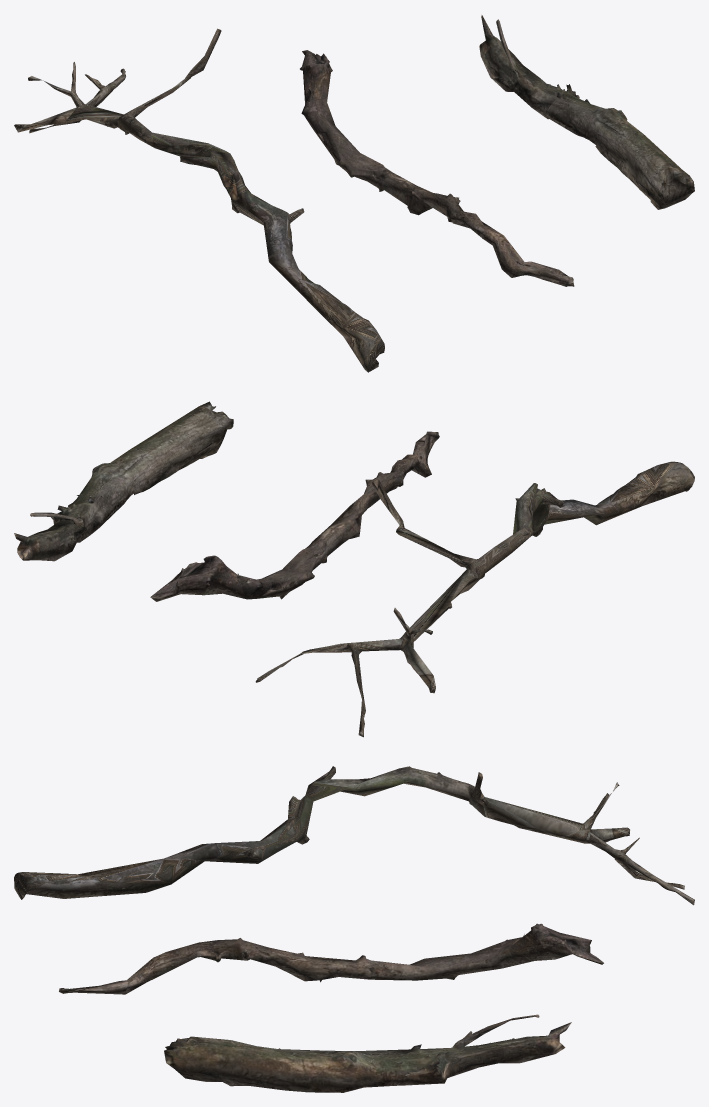
The model's file is dry_branches_medium_01.glb.
The picture shows the model from 3 angles, top to bottom: view 1: azimuth 30°, elevation 25°; view 2: azimuth 150°, elevation 25°; view 3: azimuth 270°, elevation 25°; orthographic projection. The views are drawn at different scales.
Parts seen in each view (by area): view 1: dry_branches_medium_01_a, dry_branches_medium_01_c, dry_branches_medium_01_b; view 2: dry_branches_medium_01_a, dry_branches_medium_01_c, dry_branches_medium_01_b; view 3: dry_branches_medium_01_a, dry_branches_medium_01_c, dry_branches_medium_01_b.
Boxes of the visible parts, box(x1,y1,x2,y2) form: dry_branches_medium_01_a: box(14, 28, 384, 372); dry_branches_medium_01_c: box(479, 15, 694, 209); dry_branches_medium_01_b: box(300, 50, 574, 286); dry_branches_medium_01_a: box(255, 461, 694, 737); dry_branches_medium_01_c: box(14, 401, 233, 561); dry_branches_medium_01_b: box(150, 431, 439, 601); dry_branches_medium_01_a: box(14, 766, 694, 905); dry_branches_medium_01_c: box(164, 1014, 571, 1092); dry_branches_medium_01_b: box(59, 923, 603, 994).
Size of the model in its own units: 1.06 by 0.34 by 1.3.
1 material, 1 textured.
